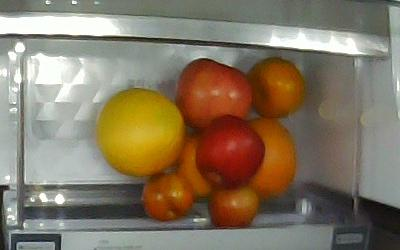apple: (177, 58, 254, 131), (197, 116, 265, 191)
grapefruit: (97, 88, 185, 177), (247, 119, 297, 199)
persimmon: (247, 57, 304, 118)
prune: (142, 173, 195, 221), (208, 186, 259, 227)
